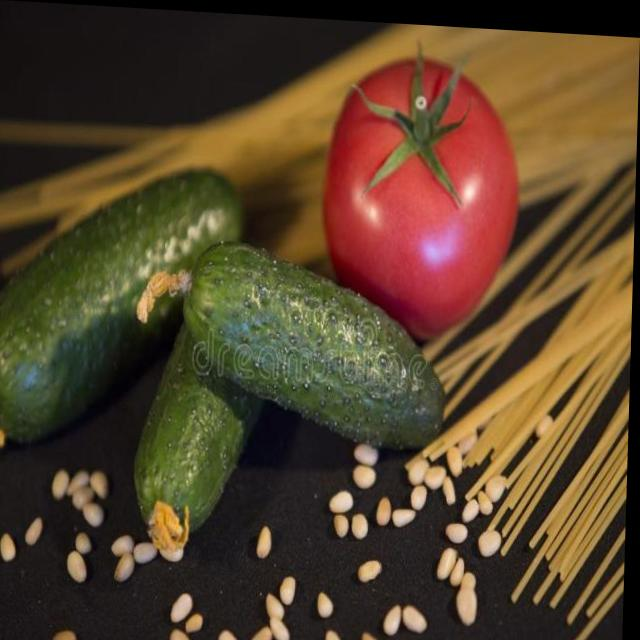kirmizi: (293, 52, 549, 316)
